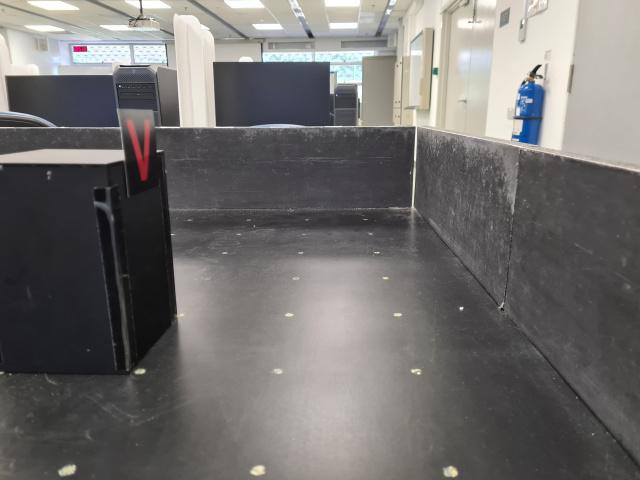v: (116, 106, 164, 200)
